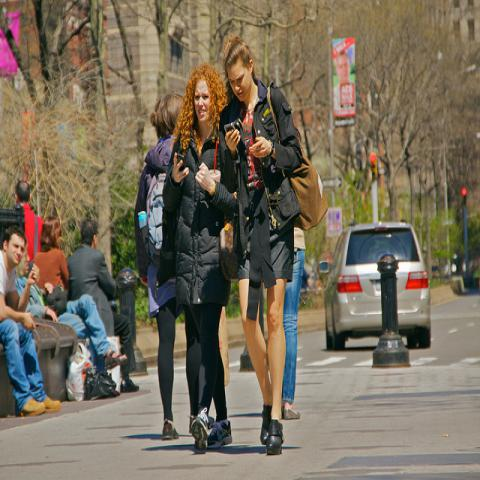car: (319, 222, 431, 351)
